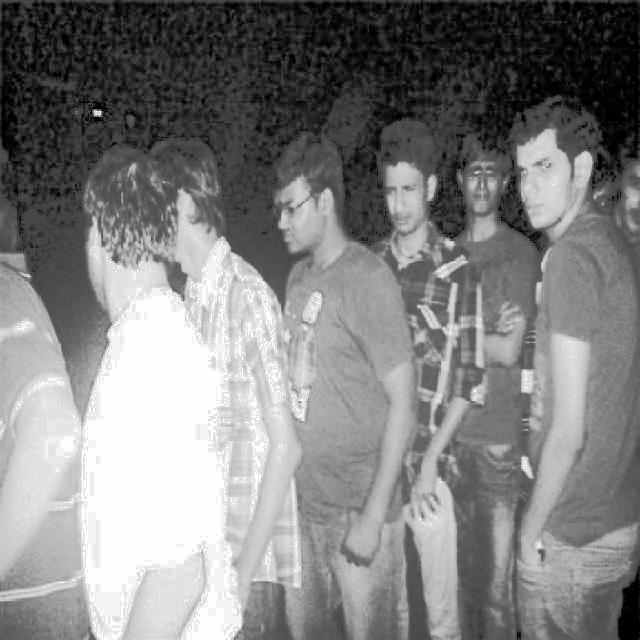Person: (76, 140, 245, 640), (152, 132, 301, 640), (274, 127, 420, 640), (360, 112, 488, 640), (517, 93, 640, 639), (446, 123, 540, 640)
